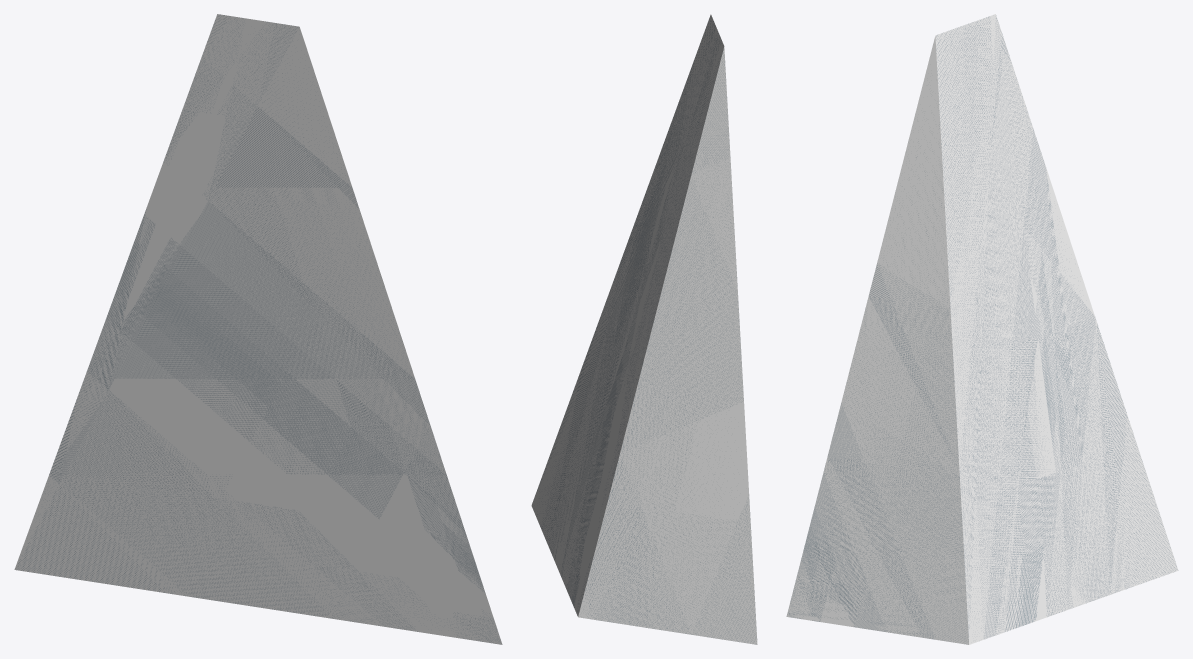
3 views of the same model, side by side, from view 1: azimuth 30°, elevation 25°; view 2: azimuth 150°, elevation 25°; view 3: azimuth 270°, elevation 25° (orthographic). The views are drawn at different scales.
Parts seen in each view (by area): view 1: Model; view 2: Model; view 3: Model.
Boxes of the visible parts, <box> form: Model: <box>14,14,502,644</box>; Model: <box>531,14,757,644</box>; Model: <box>786,14,1178,644</box>.
Size of the model in its own units: 2.69 by 4.27 by 2.87.
